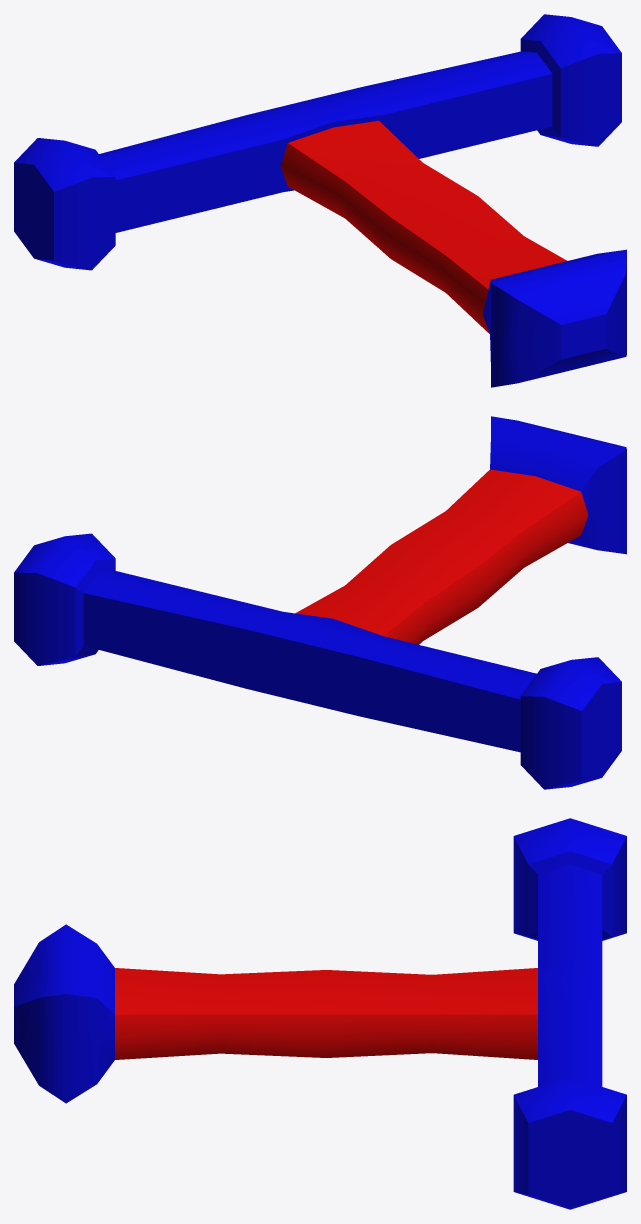
The model's file is hand_3.fbx.
The picture shows the model from 3 angles, top to bottom: view 1: azimuth 30°, elevation 25°; view 2: azimuth 150°, elevation 25°; view 3: azimuth 270°, elevation 25°; orthographic projection. The views are drawn at different scales.
Visible parts, largest first — view 1: hand_3; view 2: hand_3; view 3: hand_3.
Part boxes in pixels (box(x1,y1,x2,y2)): hand_3: box(14, 14, 626, 387); hand_3: box(14, 416, 626, 789); hand_3: box(14, 818, 626, 1209).
Size of the model in its own units: 25.94 by 5.54 by 23.16.
